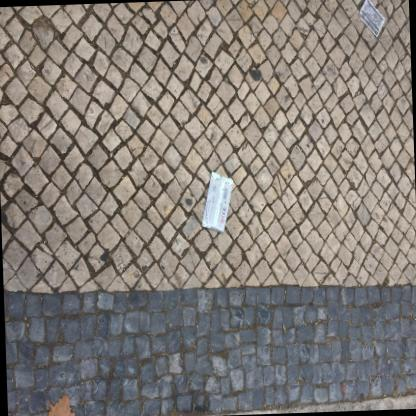Paper: (359, 0, 384, 38)
Plastic: (201, 171, 232, 234)
